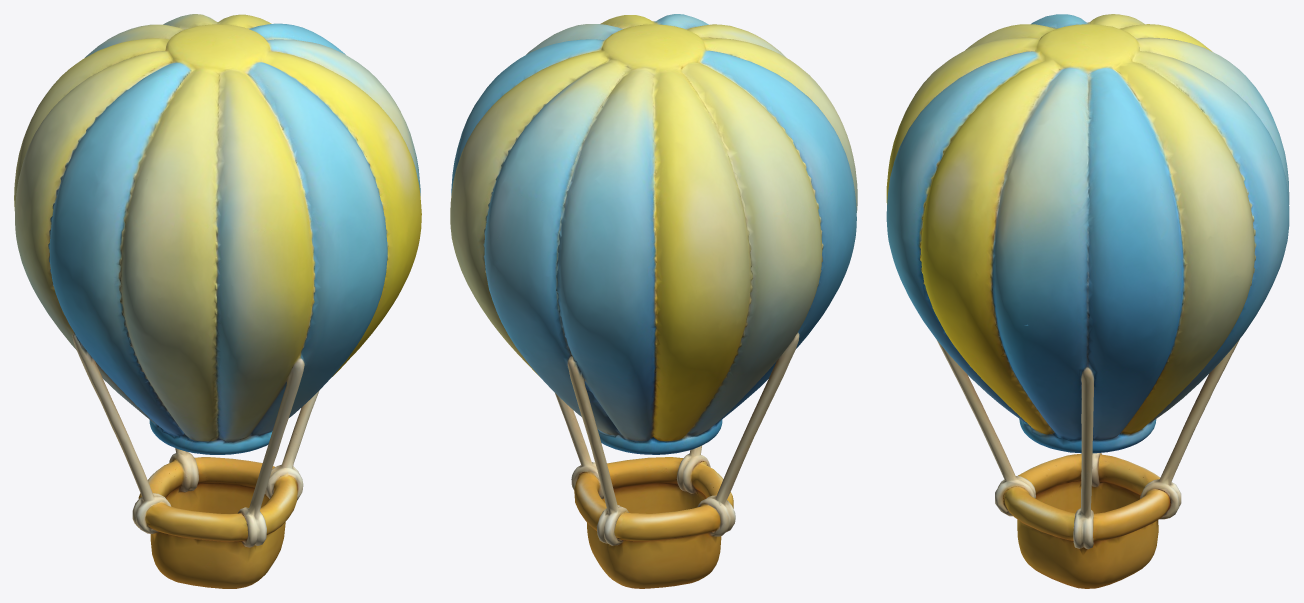
File: hot-air-balloon.glb
The picture shows the model from 3 angles, left to right: view 1: azimuth 30°, elevation 25°; view 2: azimuth 150°, elevation 25°; view 3: azimuth 270°, elevation 25°; orthographic projection.
Parts seen in each view (by area): view 1: tripo_node_72050d4a-3554-4885-bd4c-121ee96bef86; view 2: tripo_node_72050d4a-3554-4885-bd4c-121ee96bef86; view 3: tripo_node_72050d4a-3554-4885-bd4c-121ee96bef86.
Boxes of the visible parts, x1,y1,x2,y2 form: tripo_node_72050d4a-3554-4885-bd4c-121ee96bef86: [14, 14, 421, 588]; tripo_node_72050d4a-3554-4885-bd4c-121ee96bef86: [450, 14, 857, 588]; tripo_node_72050d4a-3554-4885-bd4c-121ee96bef86: [886, 14, 1289, 588].
Bounding box in the file's own units: 0.6858 × 1 × 0.6851.
1 material, 1 textured.
